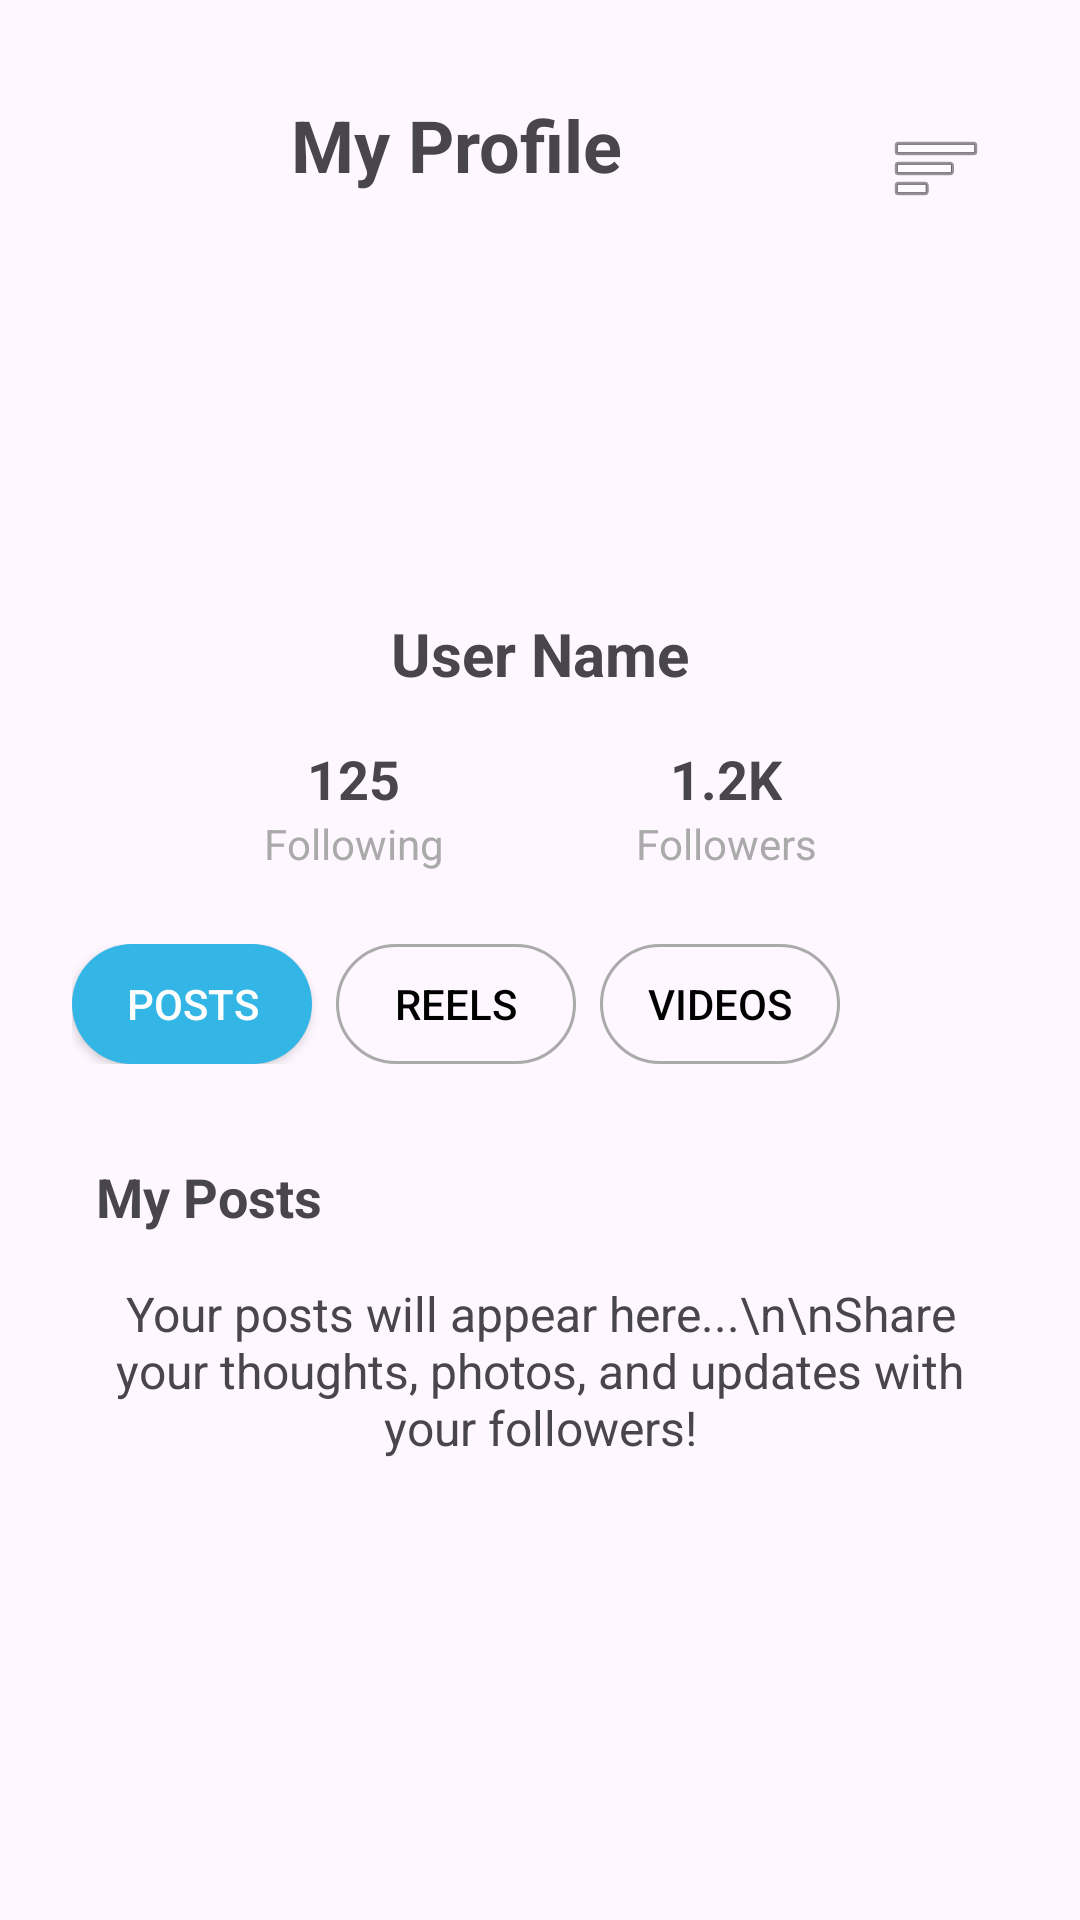

Screen size 1080 x 1920. Icon name, then its center in pixels as point (x, y):
Menu: point (936, 168)
